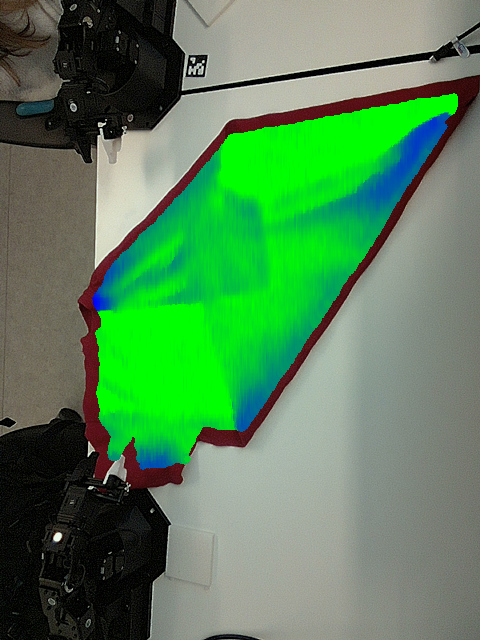V: (220, 249, 289, 302)
